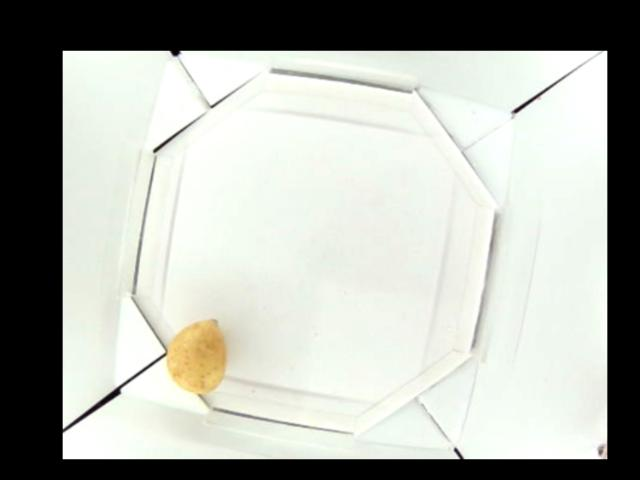Potato: (166, 317, 225, 393)
